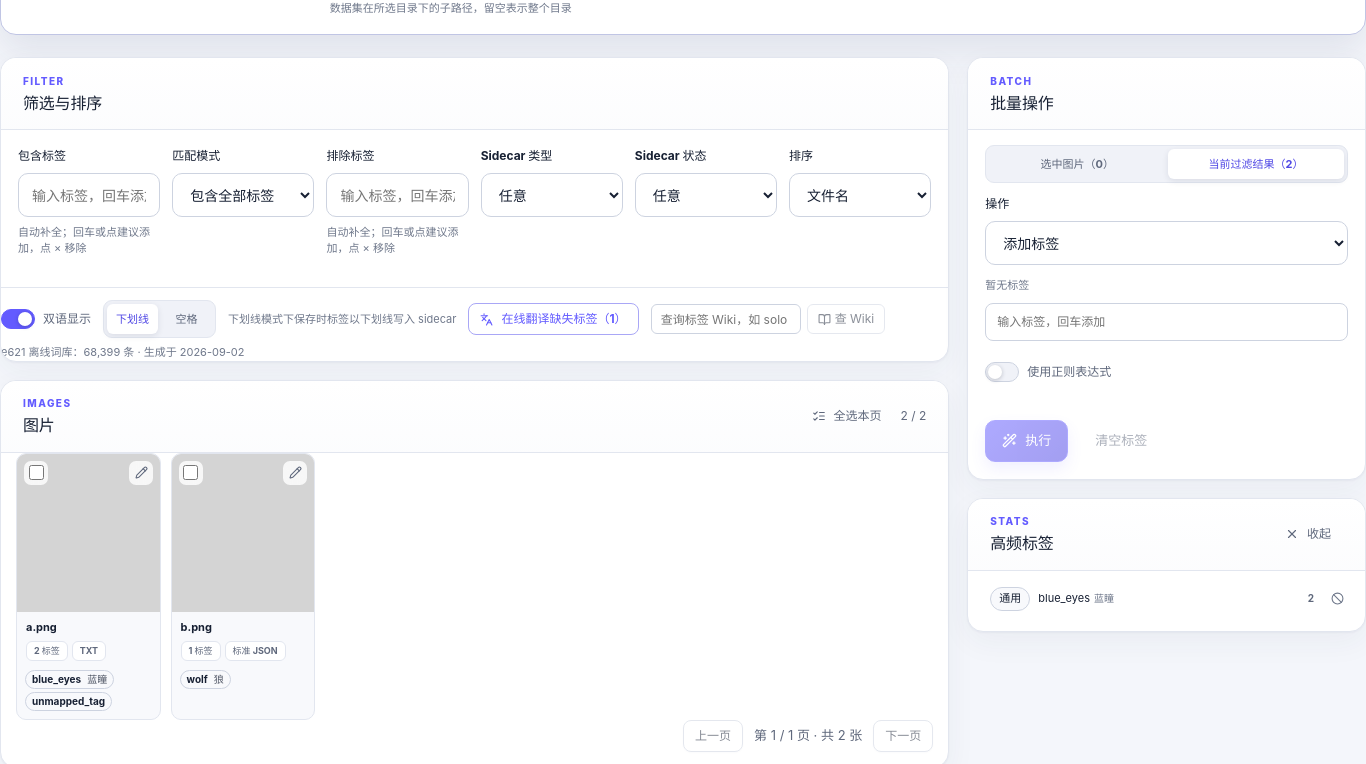
Test case: TagManager NL translation › translates the nl field and only applies it on demand
(page scrolled)
Double-click the button titled "b.png" at (243, 545), box 172,454 -> 314,637
(page scrolled)
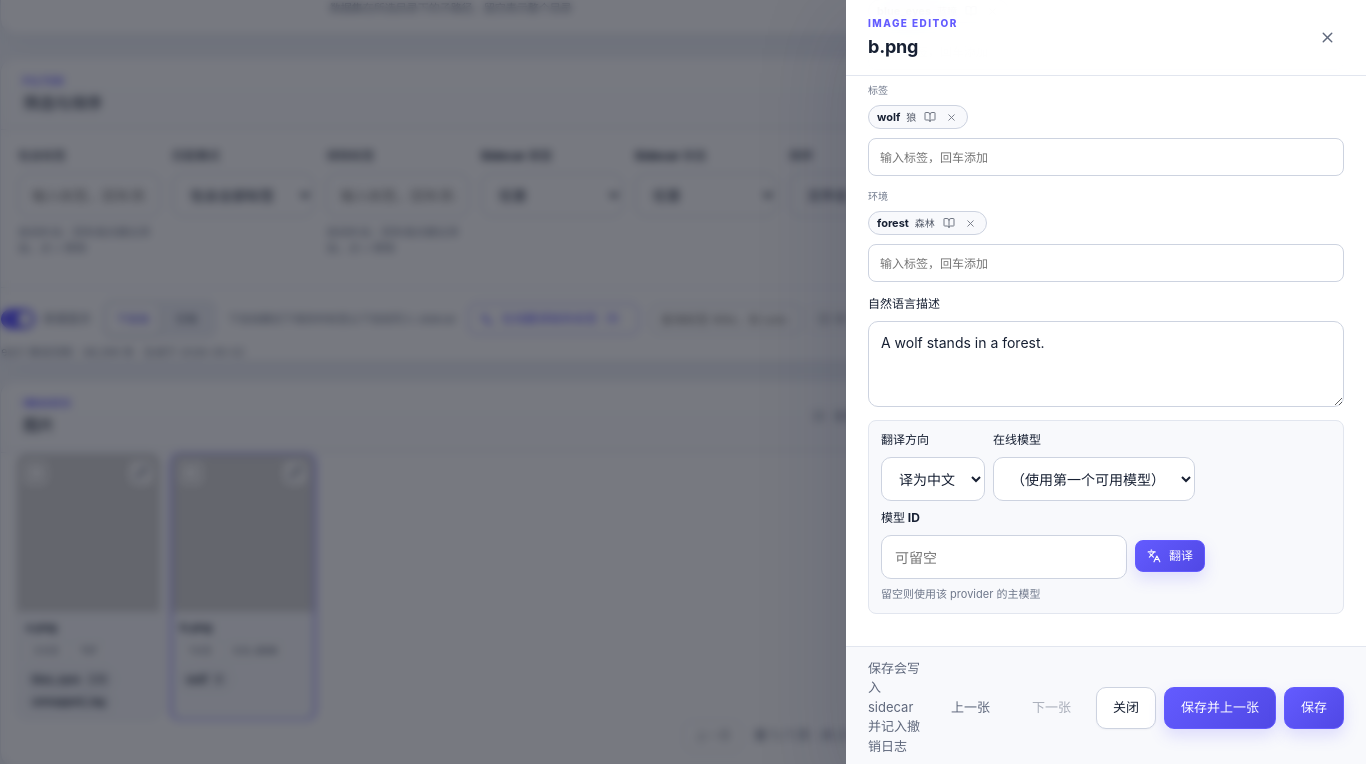
Click the button "翻译". click: (1170, 556)
box: 1135,540 -> 1205,572
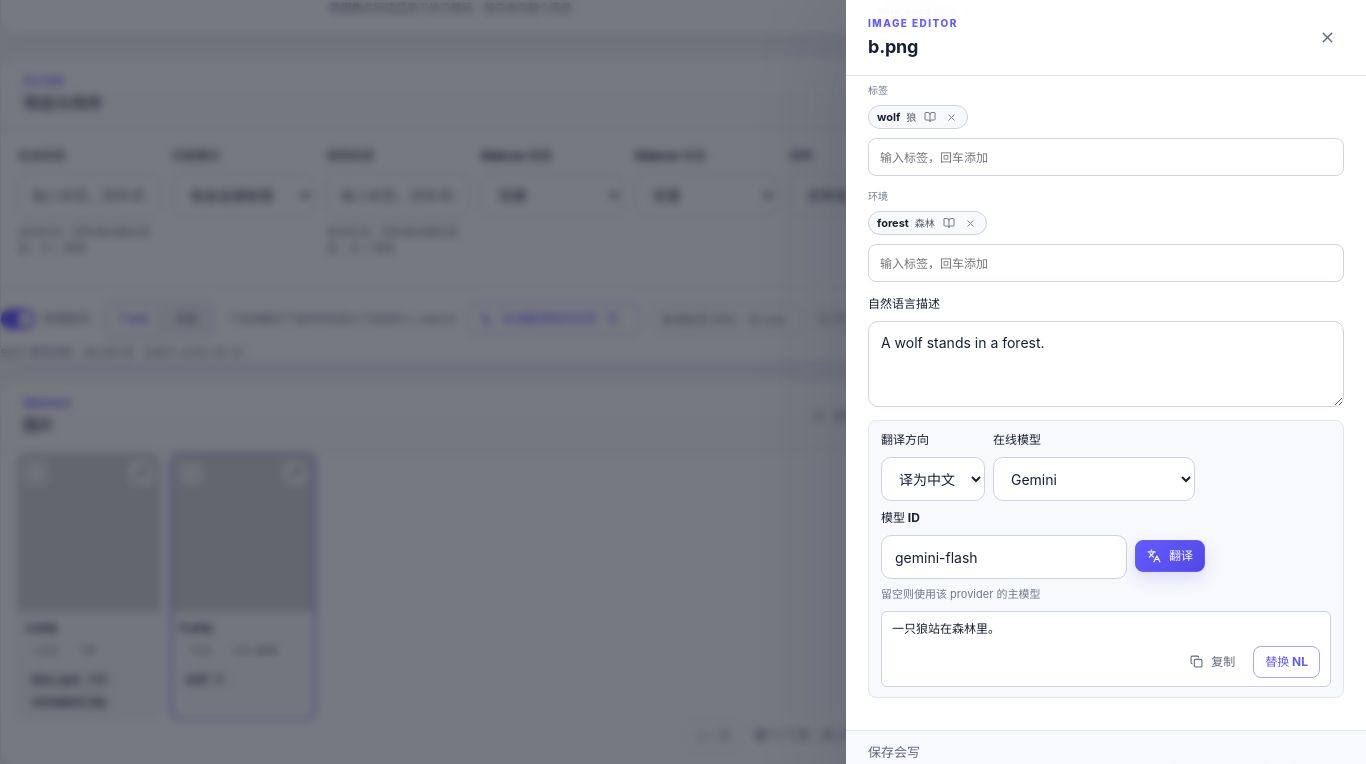
Expected: the text box labelled "自然语言描述" holds "A wolf stands in a forest.", 868,321 -> 1344,407
Expected: the text "一只狼站在森林里。" is shown, 892,621 -> 1000,636
Click the button "替换 NL". click: (1287, 662)
box: 1253,646 -> 1320,678
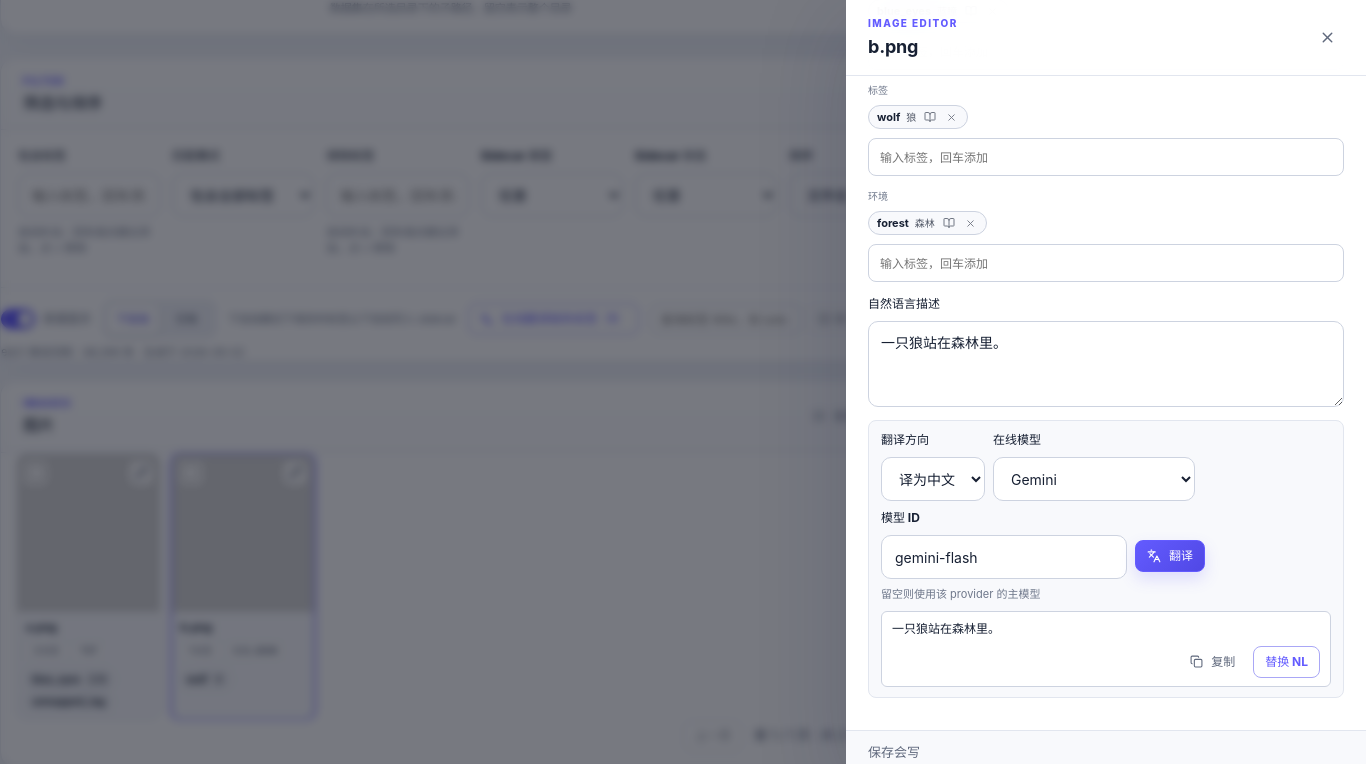
Expected: the text box labelled "自然语言描述" holds "一只狼站在森林里。", 868,321 -> 1344,407
